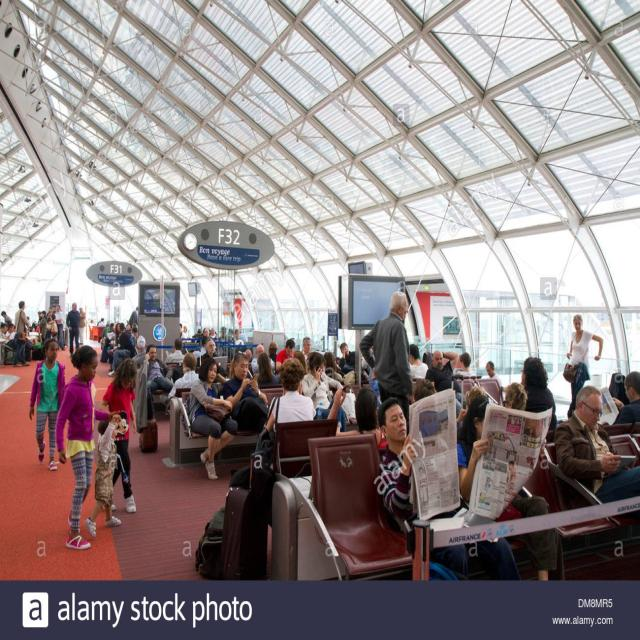body: (0, 296, 639, 422), (376, 396, 522, 581), (456, 393, 561, 583), (55, 344, 121, 551), (553, 384, 640, 504), (358, 290, 415, 438), (187, 356, 239, 484), (98, 357, 138, 515), (263, 356, 316, 469), (28, 335, 68, 474), (84, 413, 122, 539), (566, 312, 604, 420), (300, 350, 348, 433), (330, 383, 388, 450), (424, 348, 468, 431), (520, 355, 559, 434), (222, 352, 269, 410), (144, 342, 174, 428), (600, 369, 640, 425), (167, 352, 201, 401), (107, 322, 136, 377), (12, 299, 31, 369), (65, 302, 81, 358), (408, 343, 429, 385), (107, 322, 123, 373), (275, 338, 297, 374), (256, 352, 279, 386), (251, 343, 274, 375), (53, 305, 66, 352), (164, 338, 186, 363), (38, 309, 48, 355), (201, 338, 219, 362), (77, 307, 86, 346), (89, 318, 98, 331), (98, 317, 106, 327)
